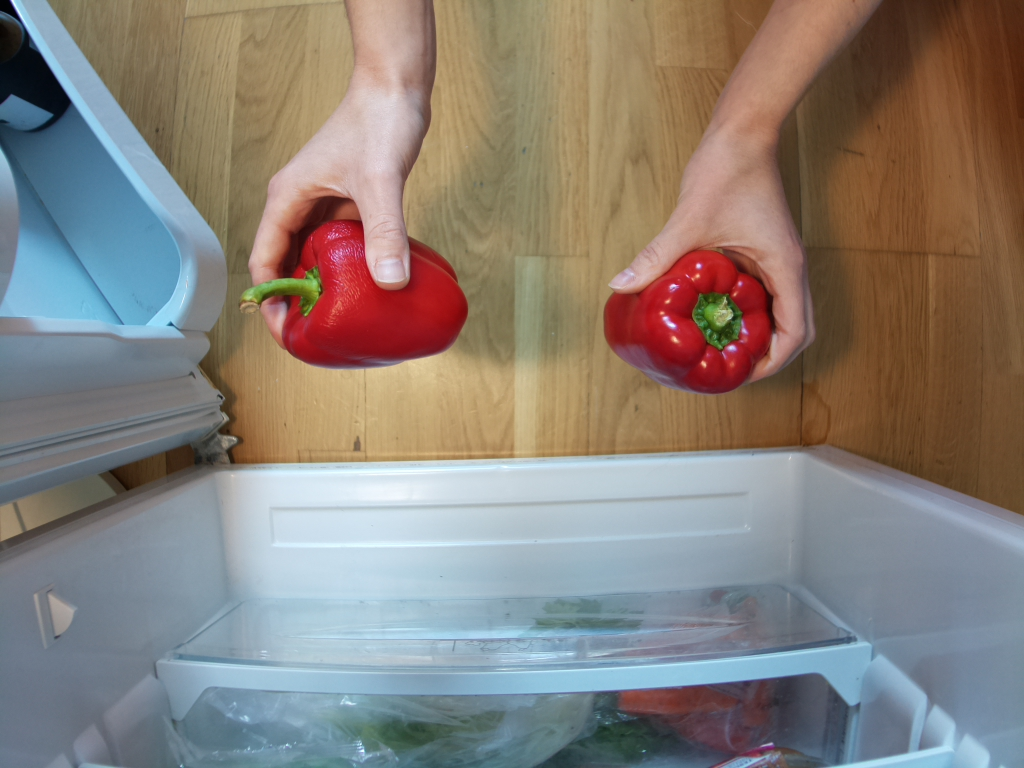pepper: (604, 249, 776, 394)
pepper-bad: (240, 220, 468, 370)
